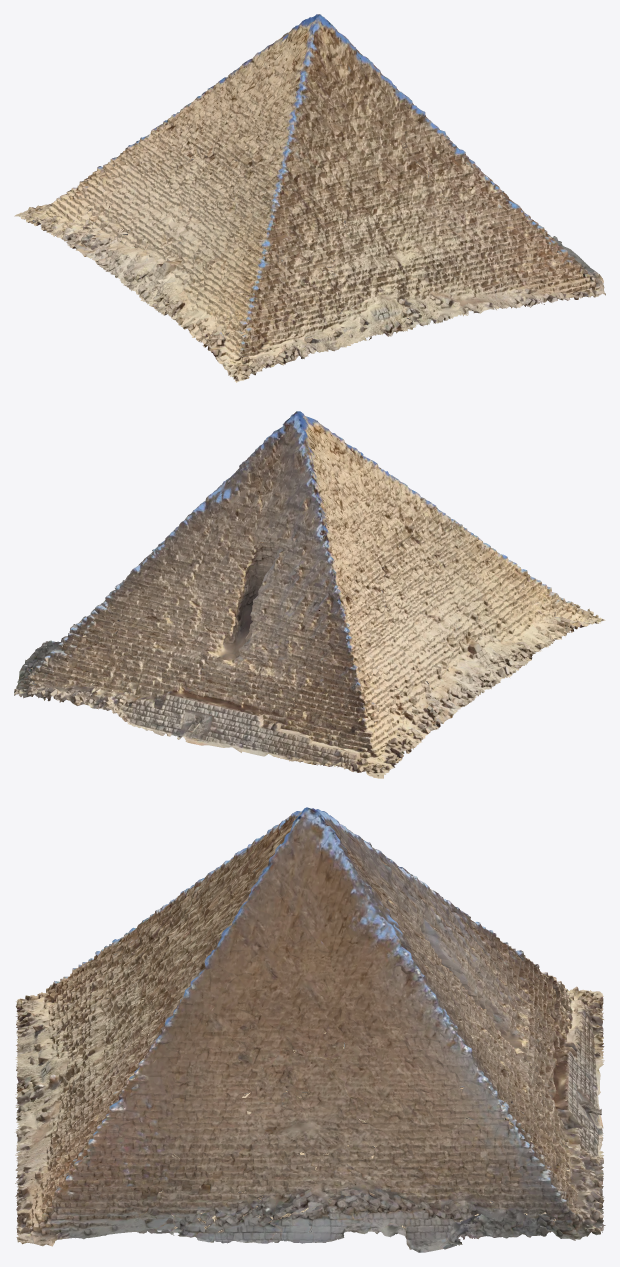
File: giza-menkaure-ruin.glb
The picture shows the model from 3 angles, top to bottom: view 1: azimuth 30°, elevation 25°; view 2: azimuth 150°, elevation 25°; view 3: azimuth 270°, elevation 25°; orthographic projection. The views are drawn at different scales.
Parts seen in each view (by area): view 1: Object_2; view 2: Object_2; view 3: Object_2.
Boxes of the visible parts, box(x1,y1,x2,y2) form: Object_2: box(14, 14, 605, 382); Object_2: box(14, 411, 605, 778); Object_2: box(14, 807, 605, 1252).
Bounding box in the file's own units: 104 × 62.91 × 104.
1 material, 1 textured.
